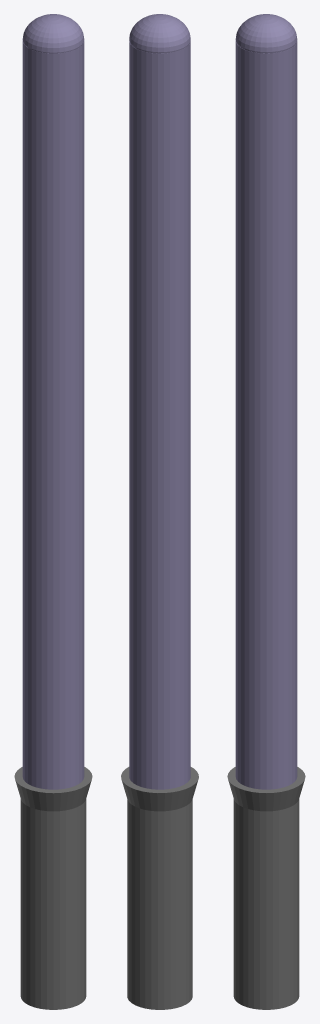
File: sword.fbx
3 views of the same model, side by side, from view 1: azimuth 90°, elevation 25°; view 2: azimuth 210°, elevation 25°; view 3: azimuth 270°, elevation 25° (orthographic).
Visible parts, largest first — view 1: Cylinder; view 2: Cylinder; view 3: Cylinder.
Boxes of the visible parts, left/top/right/bottom form: Cylinder: left=14, top=14, right=92, bottom=1009; Cylinder: left=121, top=14, right=198, bottom=1009; Cylinder: left=227, top=14, right=305, bottom=1009.
Bounding box in the file's own units: 38.02 × 526 × 38.02.
